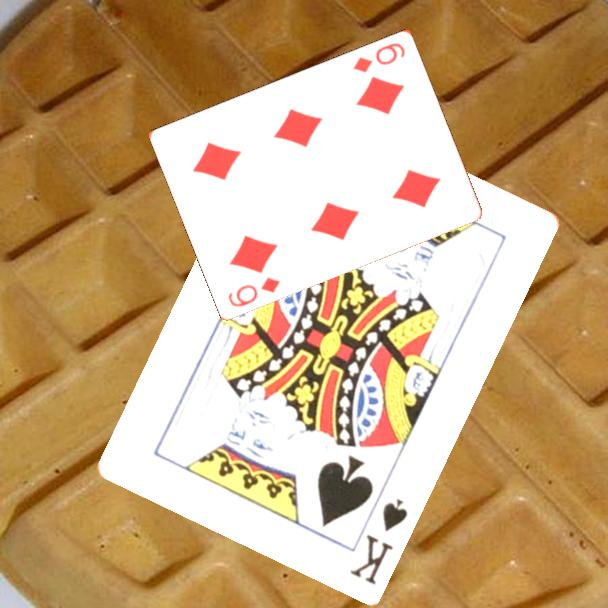d06: (225, 273, 284, 310), (350, 39, 408, 75)
s13: (346, 494, 411, 587)
